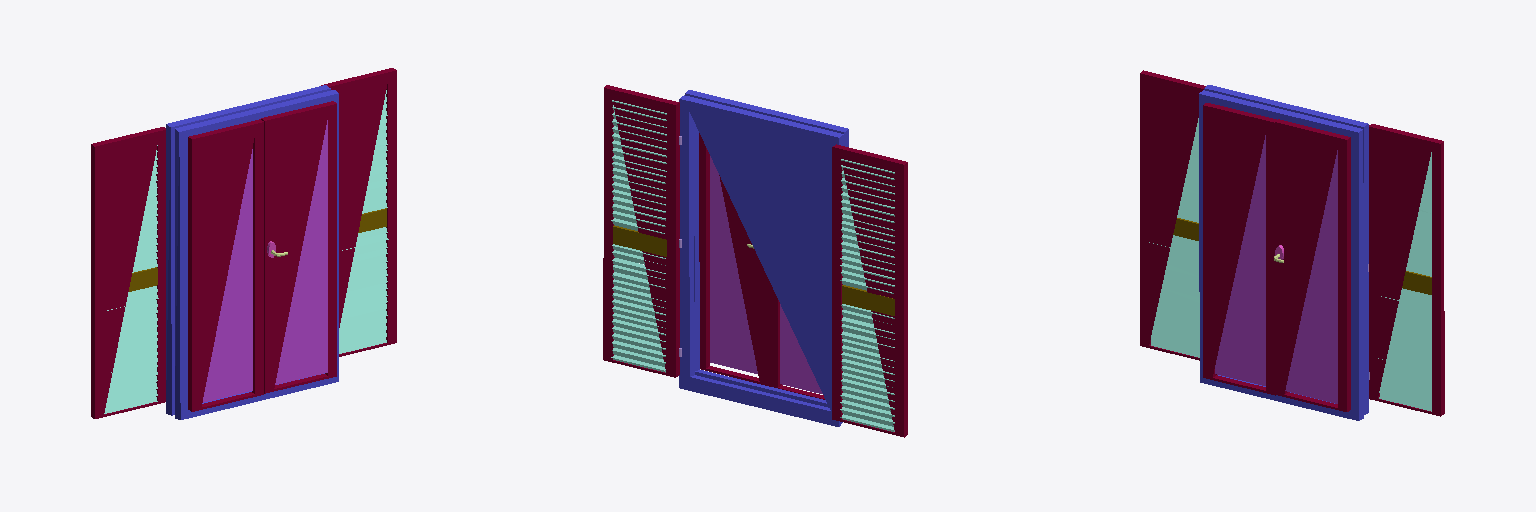
Rendered from door_window.obj.
The picture shows the model from 3 angles: view 1: azimuth 30°, elevation 25°; view 2: azimuth 150°, elevation 25°; view 3: azimuth 330°, elevation 25°; orthographic projection.
Parts seen in each view (by area): view 1: cornice04, cornice06, cornice, cornice05, base_finestra_esterno01, vetro, vetro01, base_finestra_esterno; view 2: base_finestra_esterno, cornice05, cornice06, cornice, vetro, base_finestra_esterno01, vetro01, cornice04, barra_main01, barra_main02; view 3: cornice, cornice05, cornice04, cornice06, base_finestra_esterno01, vetro, vetro01, base_finestra_esterno.
Boxes of the visible parts, <box> form: cornice04: <box>188,119,263,411</box>; cornice06: <box>91,127,165,418</box>; cornice: <box>261,101,336,393</box>; cornice05: <box>321,68,396,356</box>; base_finestra_esterno01: <box>175,90,338,419</box>; vetro: <box>275,120,327,384</box>; vetro01: <box>203,149,252,402</box>; base_finestra_esterno: <box>166,85,330,415</box>; base_finestra_esterno: <box>679,95,843,426</box>; cornice05: <box>603,85,679,377</box>; cornice06: <box>832,144,907,437</box>; cornice: <box>699,133,768,385</box>; vetro: <box>710,156,757,373</box>; base_finestra_esterno01: <box>685,90,848,407</box>; vetro01: <box>780,304,822,393</box>; cornice04: <box>769,281,824,399</box>; barra_main01: <box>613,225,666,256</box>; barra_main02: <box>842,285,894,315</box>; cornice: <box>1275,119,1350,411</box>; cornice05: <box>1369,124,1444,416</box>; cornice04: <box>1203,103,1276,395</box>; cornice06: <box>1140,70,1205,360</box>; base_finestra_esterno01: <box>1199,90,1363,420</box>; vetro: <box>1285,150,1337,403</box>; vetro01: <box>1215,135,1265,385</box>; base_finestra_esterno: <box>1204,85,1368,414</box>.
Bounding box in the file's own units: 2.29 × 2.1 × 0.3891.